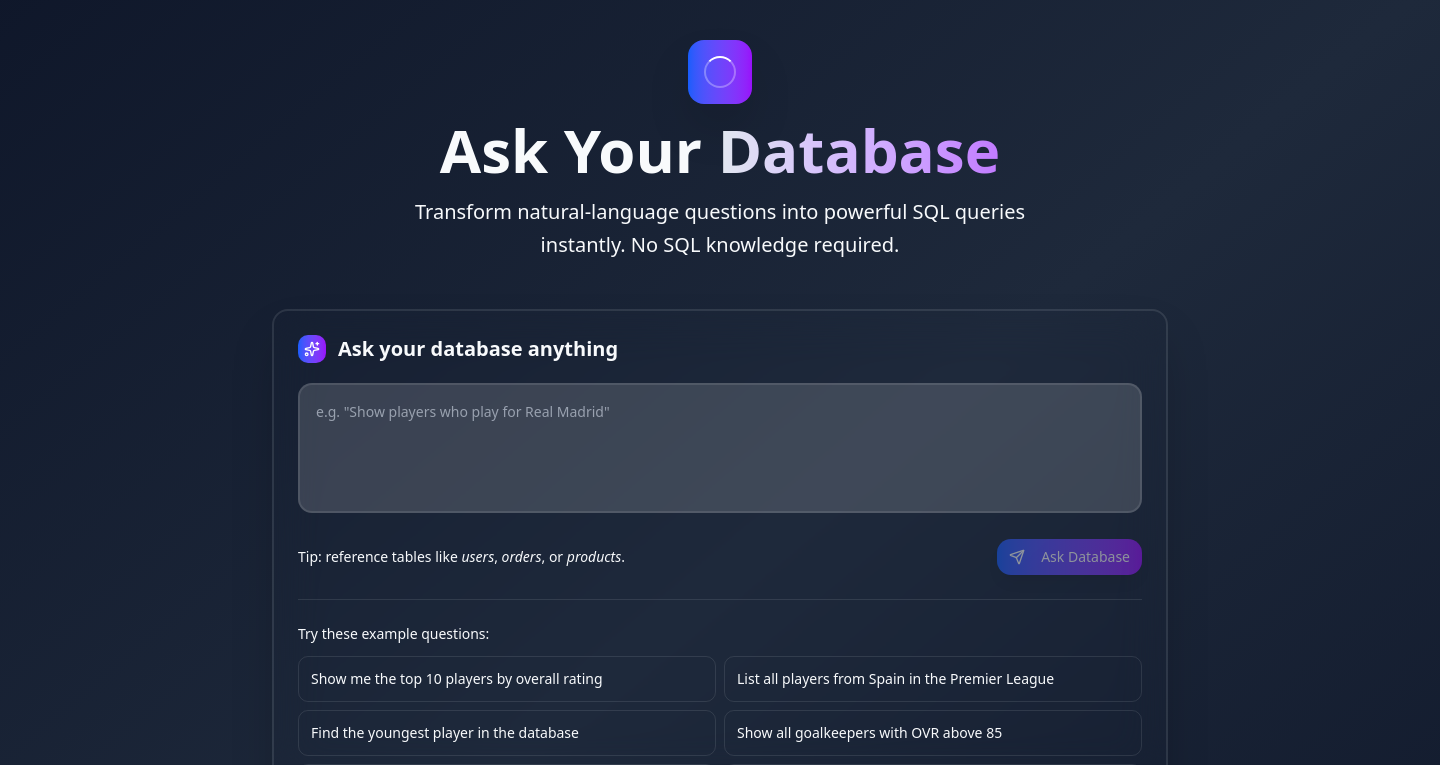
QueryInterface Page › Query Results Display › displays results table when raw_rows exist
Step 1. Type "Show players" into the text box → point(720, 448), box [298,383,1142,513]
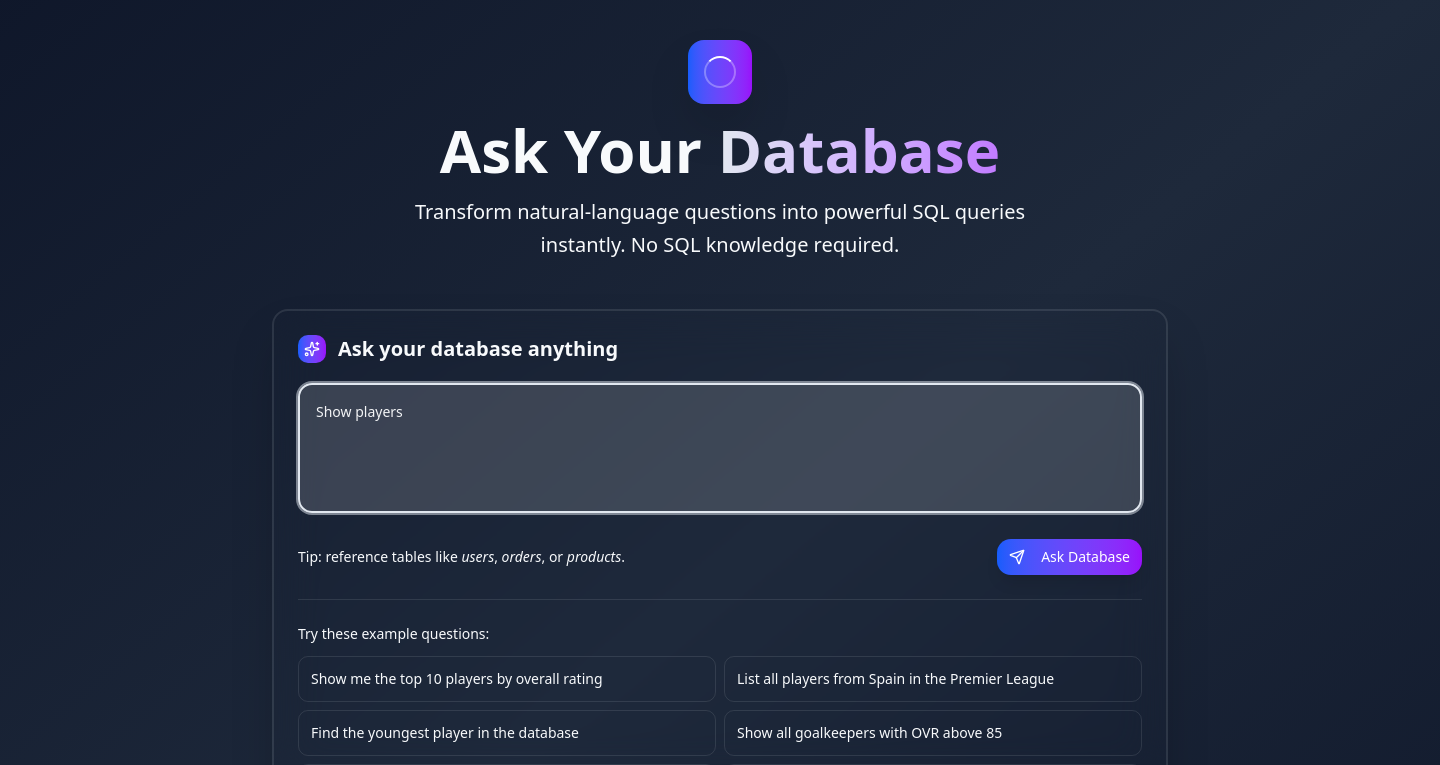
Step 2. Click the submit button → point(1070, 557), box [997,539,1142,575]
(page scrolled)
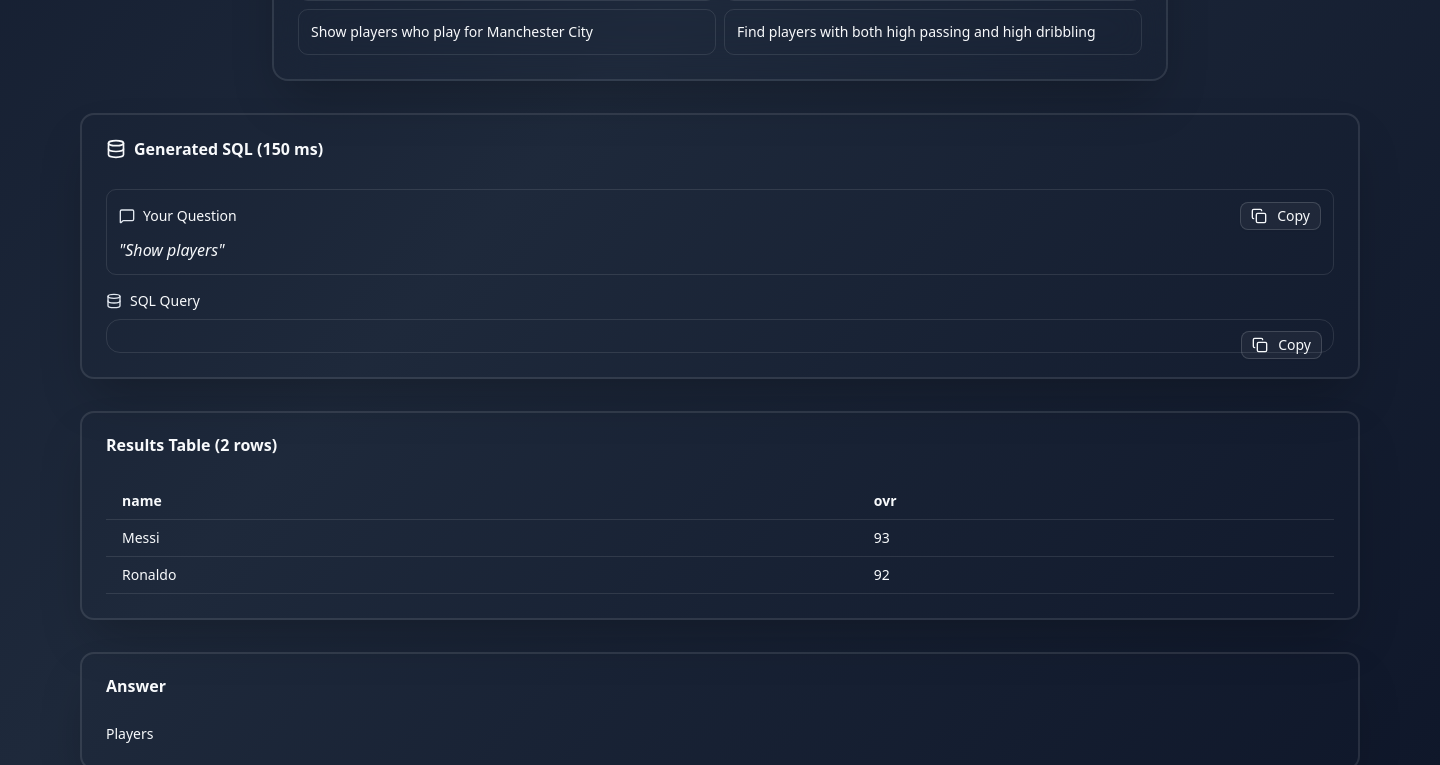
Expected: the table is shown, [106,483,1334,594]
Expected: the text "Messi" is shown, [106,520,858,556]
Expected: the text "Ronaldo" is shown, [106,556,858,594]
